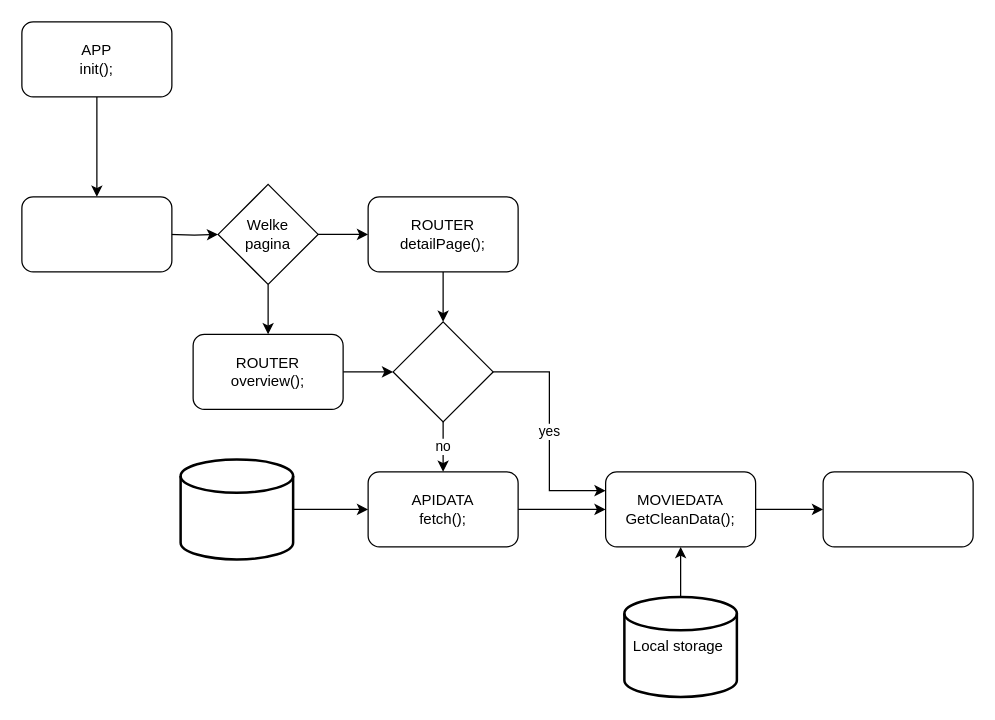
Some shapes in this 995 by 720 pixel diagram are drawn without their labels. The shapes that lost their labels are listed below. From the top down, each one's centre as x and y in pixels, then its label:
At (x=96, y=234): "ROUTER handler();".
At (x=442, y=371): "Local storage?".
At (x=236, y=509): "Ghibli API".
At (x=897, y=509): "RENDER display();".
